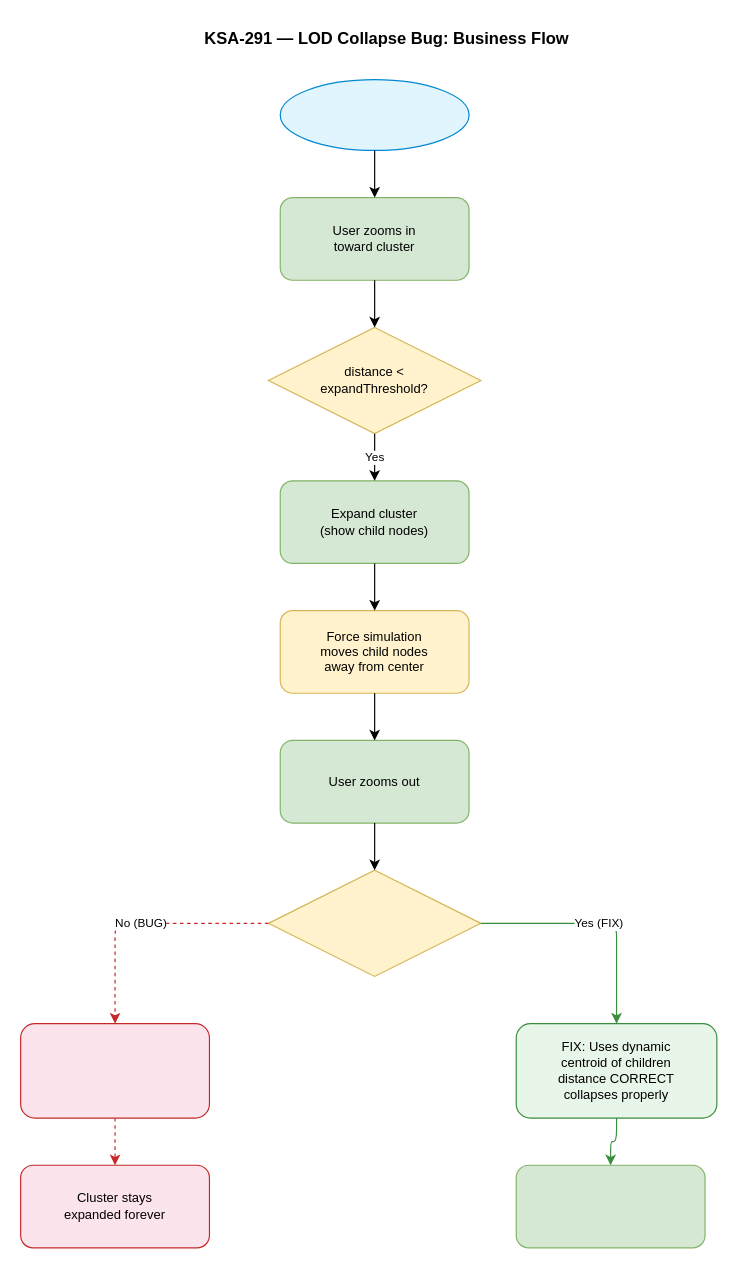
Image size: 737x1269. Some labels were removed from this diagram. The centre of each missing label's shape, as x and y in pixels:
BUG: Uses fixed cluster.center distance WRONG NEVER collapses: pixel 114 1070
Collapse cluster (show super-node): pixel 610 1206
distance > collapseThreshold?: pixel 374 922
User views KB Graph: pixel 374 114
